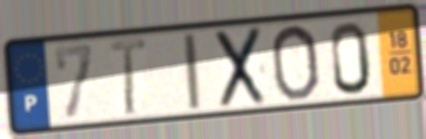0: (327, 18, 375, 97)
7: (52, 42, 95, 123)
I: (179, 30, 203, 113)
O: (269, 21, 322, 103)
T: (107, 35, 150, 119)
X: (214, 23, 268, 111)
